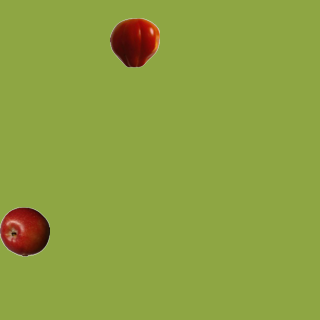Apple Braeburn: (0, 206, 49, 256)
Tomato 1: (109, 17, 159, 67)
